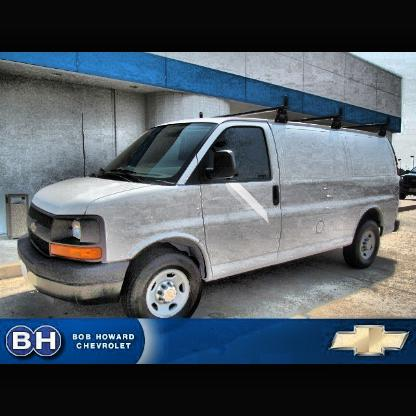Chevrolet Express Cargo Van 2007: (16, 96, 406, 323)
